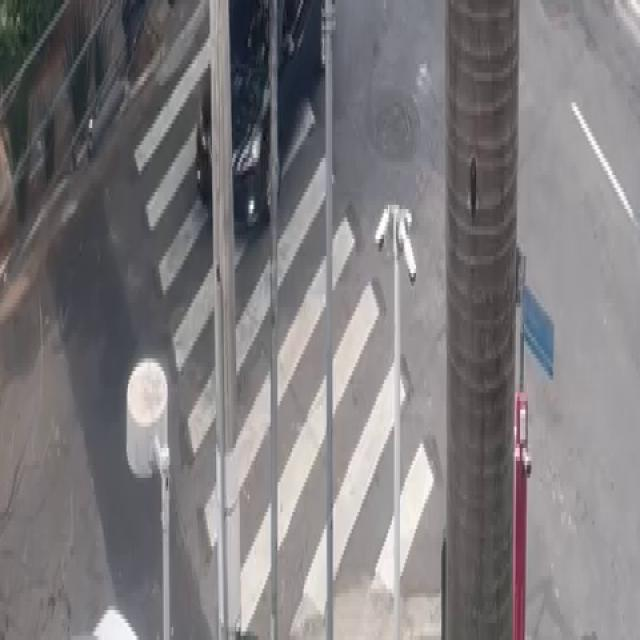car: (189, 0, 344, 271)
